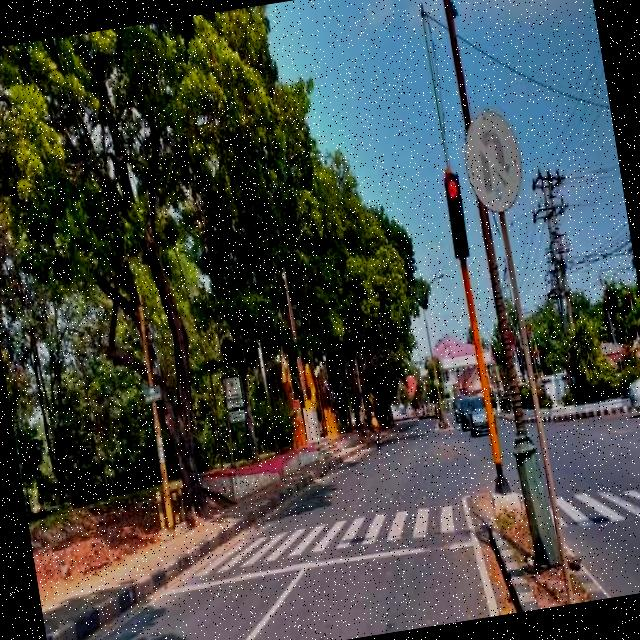Czerwone swiatlo: (444, 166, 472, 264)
